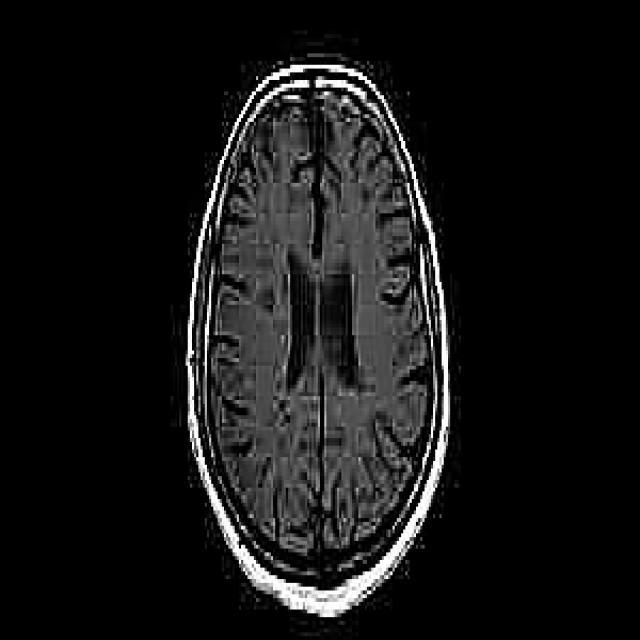notumor: (183, 65, 448, 621)
